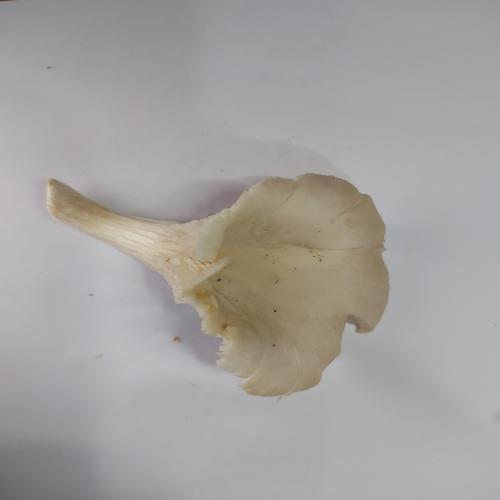Oyster Mushroom: (44, 172, 391, 400)
